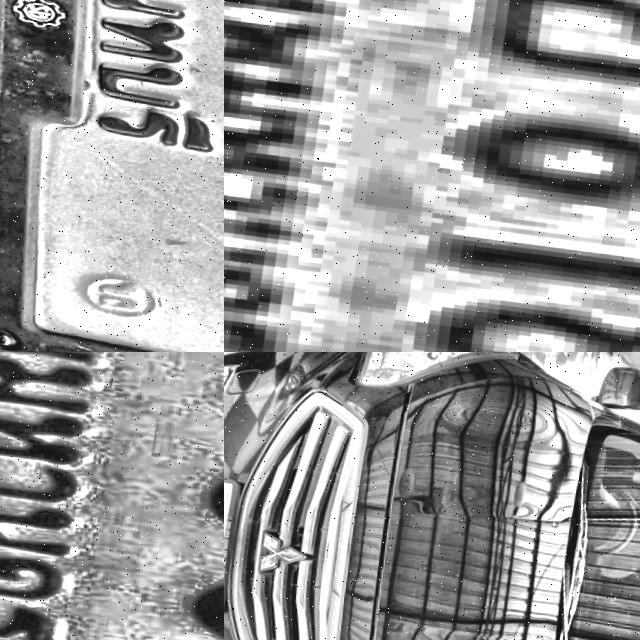license-plate: (224, 0, 640, 352), (0, 0, 224, 352), (0, 352, 224, 640), (224, 467, 245, 609)
